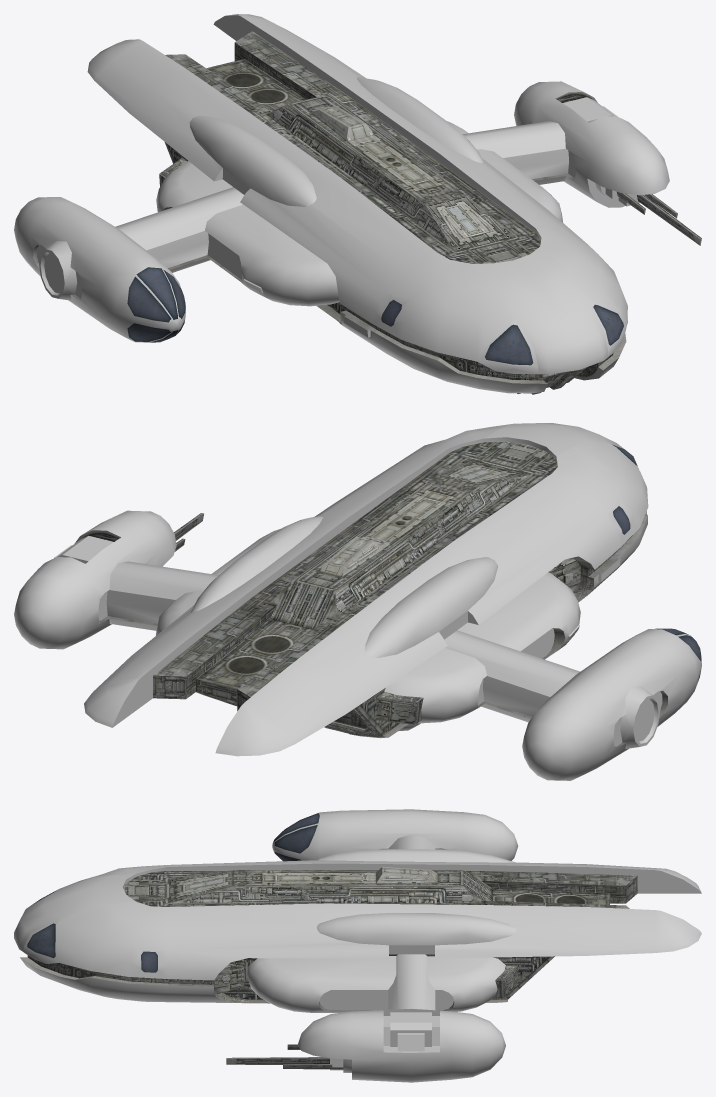
Rendered from ykl37r_r0_mesh_l0.fbx.
The picture shows the model from 3 angles, top to bottom: view 1: azimuth 30°, elevation 25°; view 2: azimuth 150°, elevation 25°; view 3: azimuth 270°, elevation 25°; orthographic projection. The views are drawn at different scales.
Visible parts, largest first — view 1: mesh_node; view 2: mesh_node; view 3: mesh_node.
Part boxes in pixels (left/top/right/bottom): mesh_node: left=14, top=14, right=701, bottom=394; mesh_node: left=14, top=423, right=701, bottom=780; mesh_node: left=14, top=809, right=701, bottom=1082.
Size of the model in its own units: 39.7 by 10.08 by 49.9.
